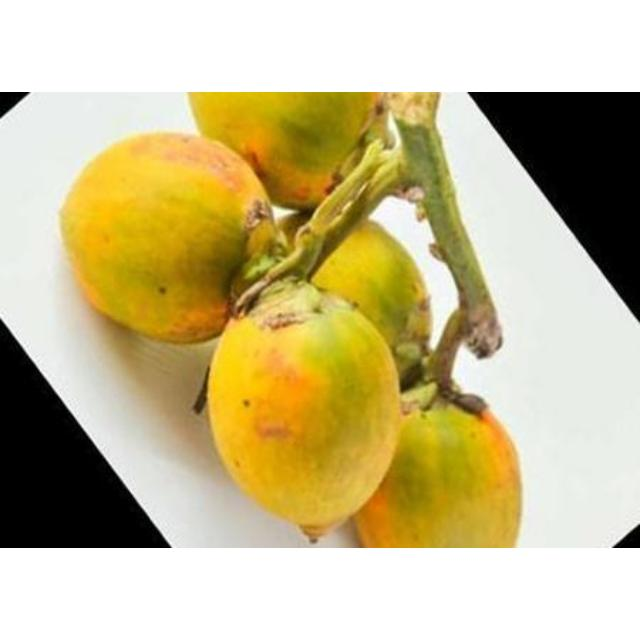good: (209, 286, 403, 538), (58, 134, 270, 342), (352, 388, 518, 548), (187, 92, 389, 208), (282, 217, 428, 363)
